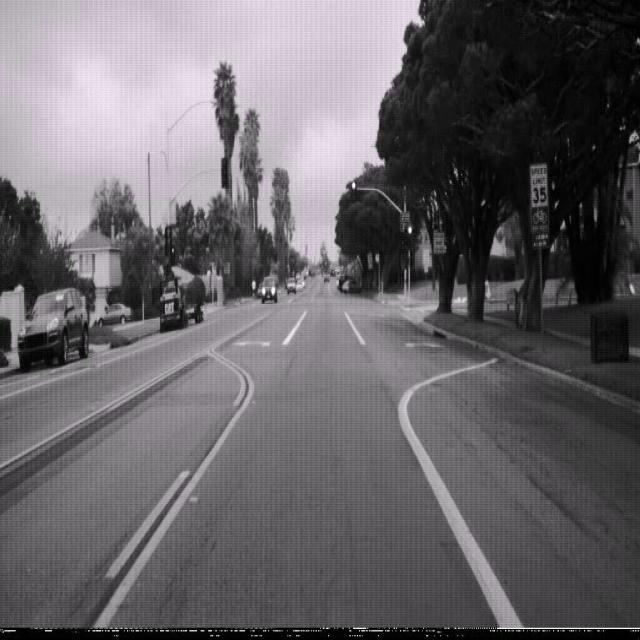speedLimit35: (529, 162, 549, 210)
